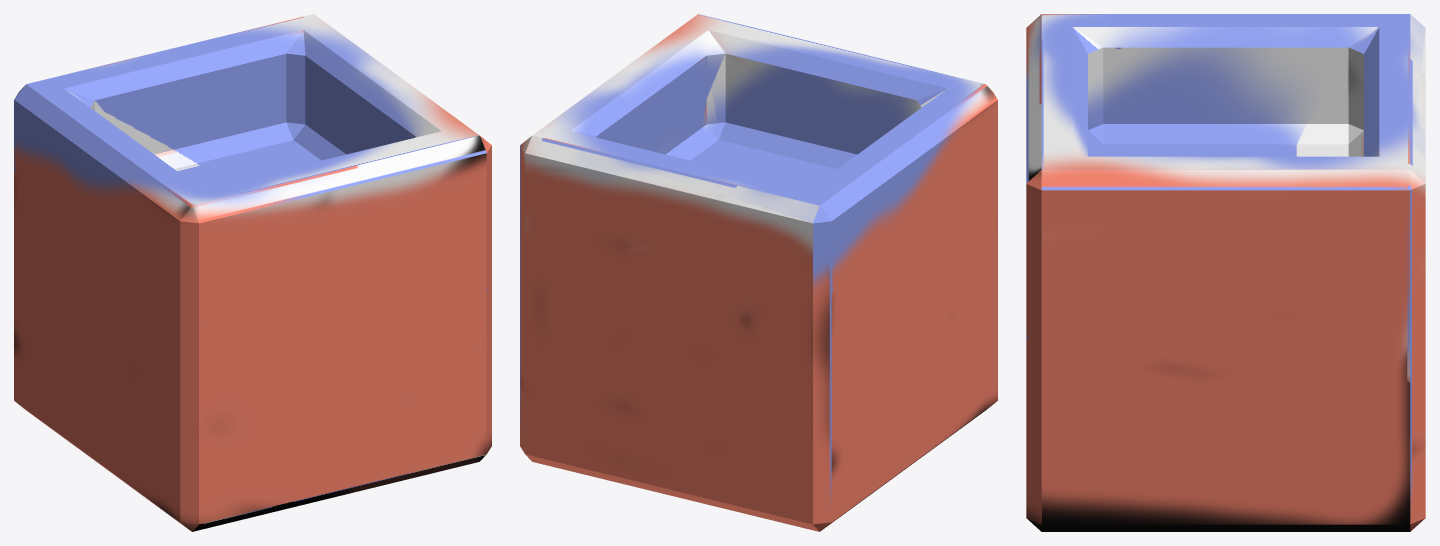
File: boxA.dae
3 views of the same model, side by side, from view 1: azimuth 30°, elevation 25°; view 2: azimuth 150°, elevation 25°; view 3: azimuth 270°, elevation 25° (orthographic). The views are drawn at different scales.
Parts seen in each view (by area): view 1: Cube; view 2: Cube; view 3: Cube.
Part boxes in pixels (x1,y1,x2,y2): Cube: (14,14,491,531); Cube: (520,14,997,531); Cube: (1026,14,1425,531).
Bounding box in the file's own units: 2 × 2 × 2.
1 material, 1 textured.
